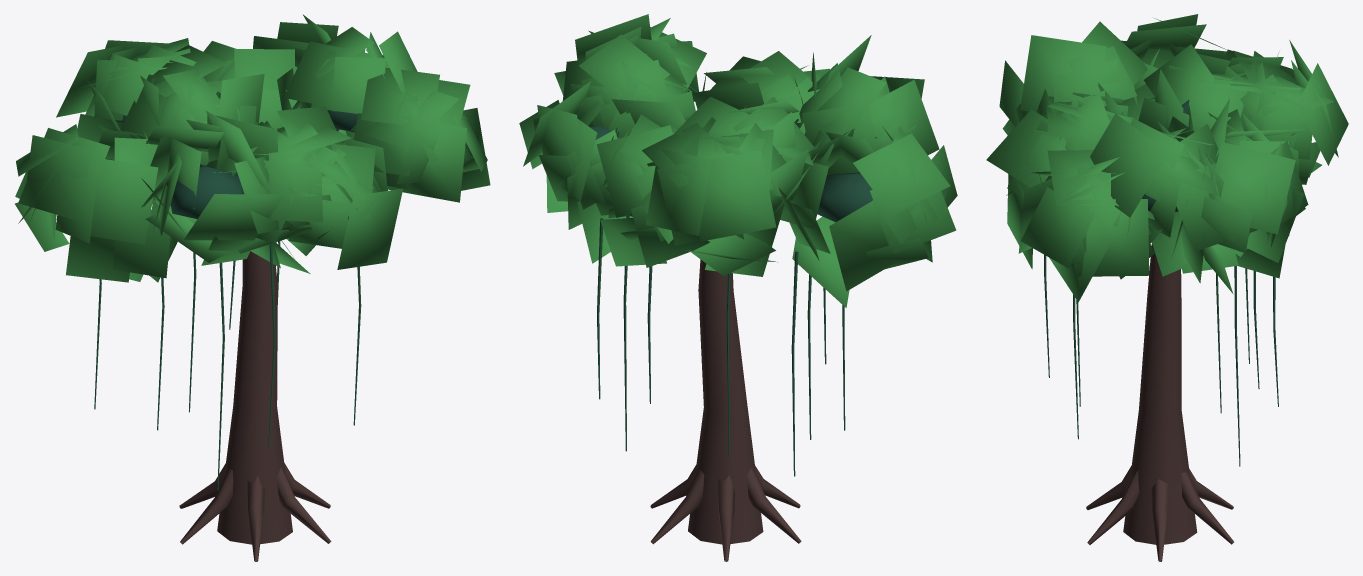
Rendered from jungle_tree.glb.
3 renders of one model, left to right at view 1: azimuth 30°, elevation 25°; view 2: azimuth 150°, elevation 25°; view 3: azimuth 270°, elevation 25°, orthographic. The views are drawn at different scales.
Parts seen in each view (by area): view 1: trunk; view 2: trunk; view 3: trunk.
Part boxes in pixels (x1,y1,x2,y2): trunk: (15,14,490,561); trunk: (519,14,957,561); trunk: (986,14,1348,561).
Bounding box in the file's own units: 11.64 × 12.25 × 8.68.
